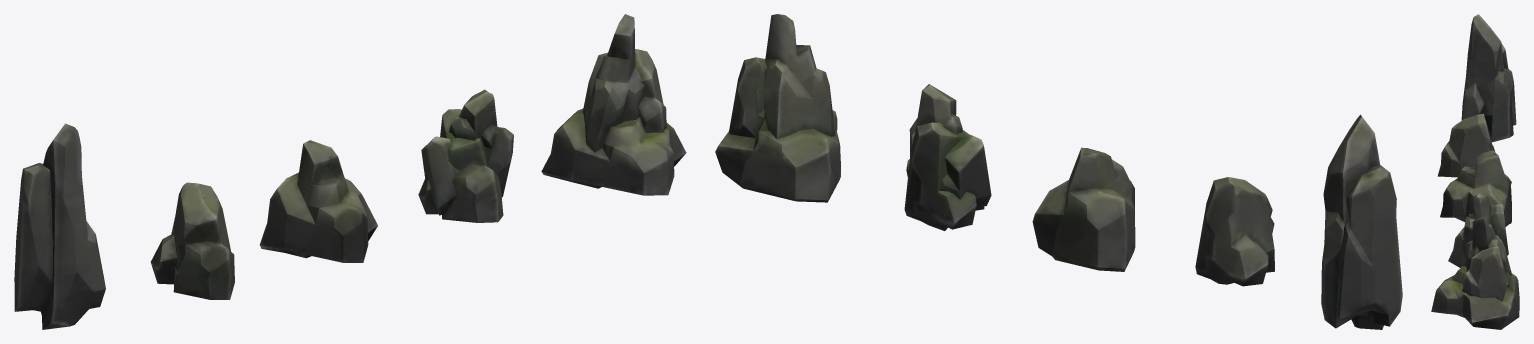
The model's file is rock.glb.
3 views of the same model, side by side, from view 1: azimuth 30°, elevation 25°; view 2: azimuth 150°, elevation 25°; view 3: azimuth 270°, elevation 25° (orthographic). The views are drawn at different scales.
Parts seen in each view (by area): view 1: Rock_4; view 2: Rock_4; view 3: Rock_4.
Part boxes in pixels (x1,y1,x2,y2): Rock_4: (14, 14, 686, 329); Rock_4: (715, 14, 1402, 329); Rock_4: (1431, 14, 1519, 329).
Size of the model in its own units: 7.28 by 2.15 by 1.31.
Materials: 1 (1 with a texture image).
